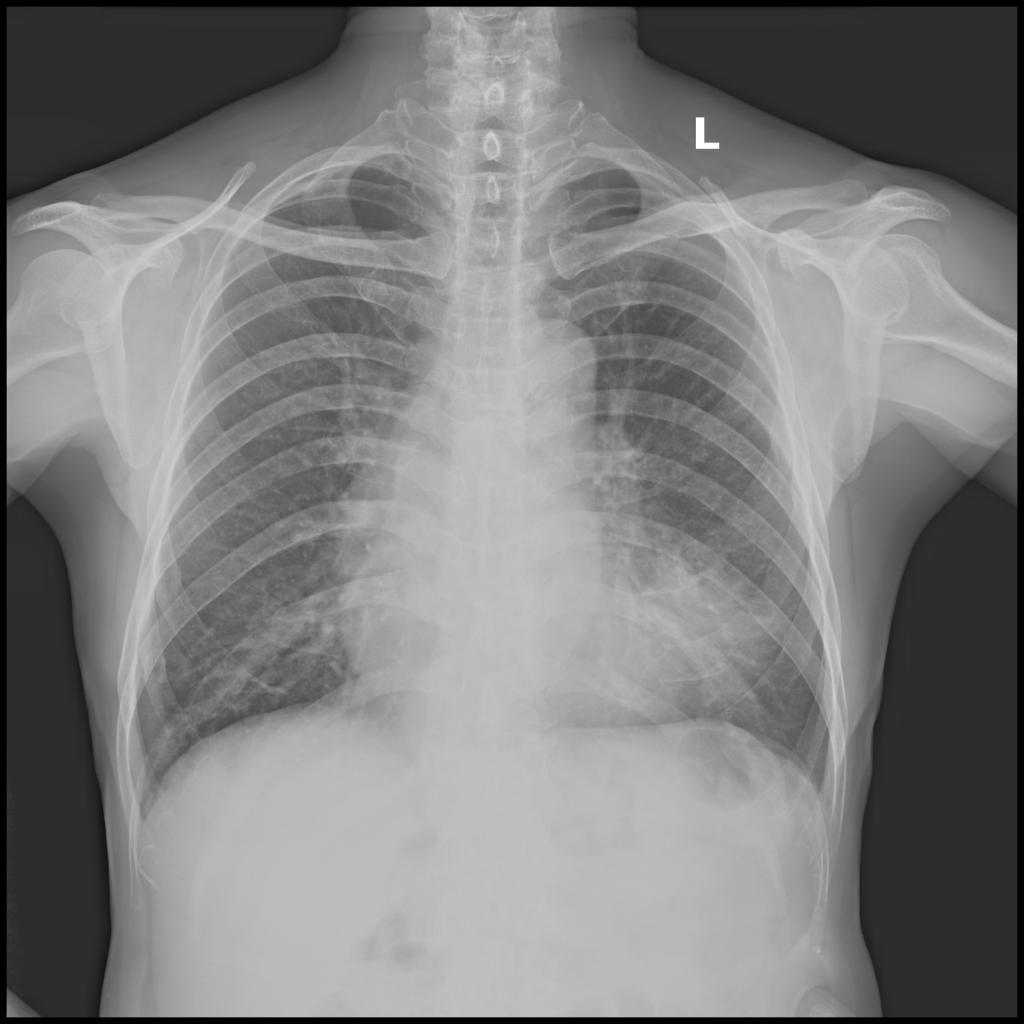Nodule: (600, 545, 772, 696)
